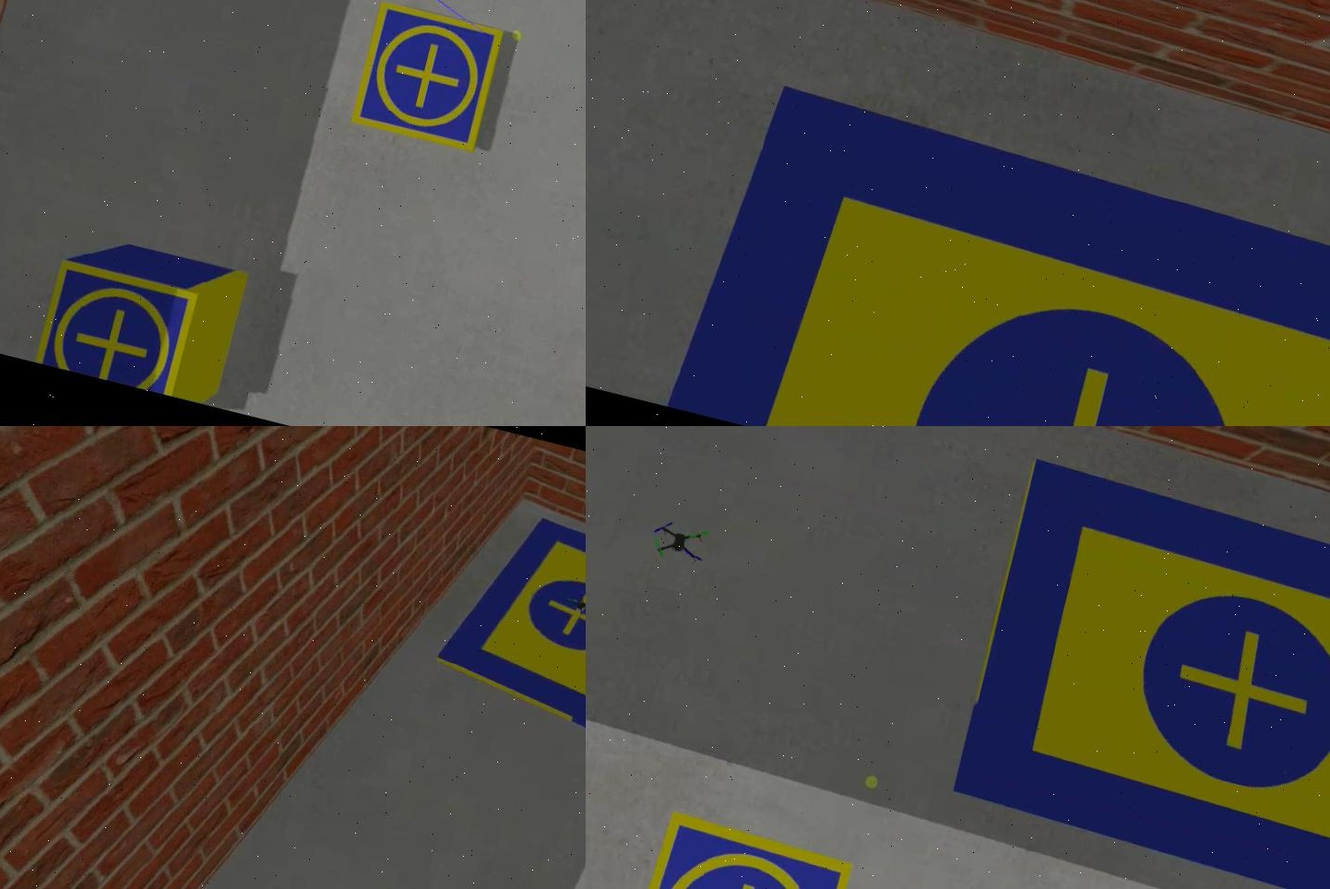large_base: (663, 74, 1328, 426), (950, 457, 1328, 889), (423, 499, 584, 751)
small_base: (30, 258, 201, 402), (346, 3, 502, 154), (608, 809, 853, 889)
